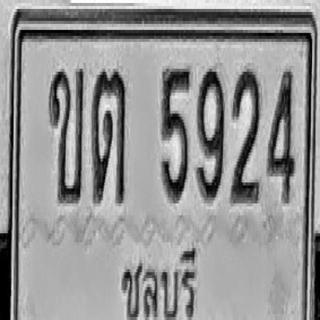A02: (49, 66, 84, 203)
A21: (92, 69, 125, 203)
N02: (230, 67, 260, 202)
N04: (266, 67, 295, 202)
N05: (161, 66, 190, 200)
N09: (196, 66, 224, 200)
P13: (116, 245, 200, 320)
